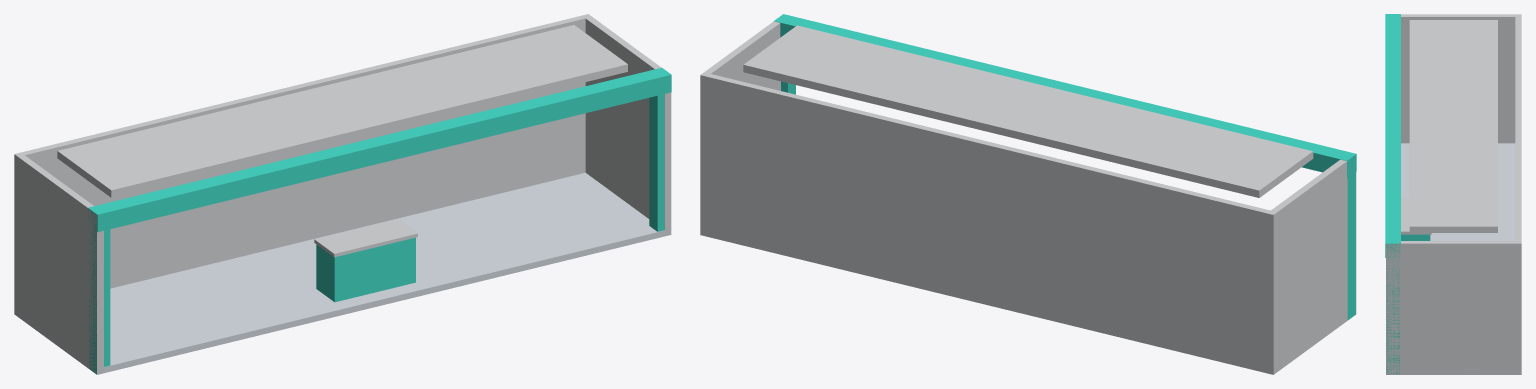
The picture shows the model from 3 angles, left to right: view 1: azimuth 30°, elevation 25°; view 2: azimuth 150°, elevation 25°; view 3: azimuth 270°, elevation 25°; orthographic projection. The views are drawn at different scales.
Visible parts, largest first — view 1: Exhibition Booth Concept; view 2: Exhibition Booth Concept; view 3: Exhibition Booth Concept.
Part boxes in pixels (x1,y1,x2,y2): Exhibition Booth Concept: [14, 14, 671, 374]; Exhibition Booth Concept: [700, 14, 1356, 374]; Exhibition Booth Concept: [1385, 14, 1521, 374].
Bounding box in the file's own units: 12 × 3.34 × 3.01.
